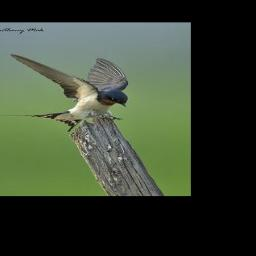Swallow: (0, 52, 129, 131)
